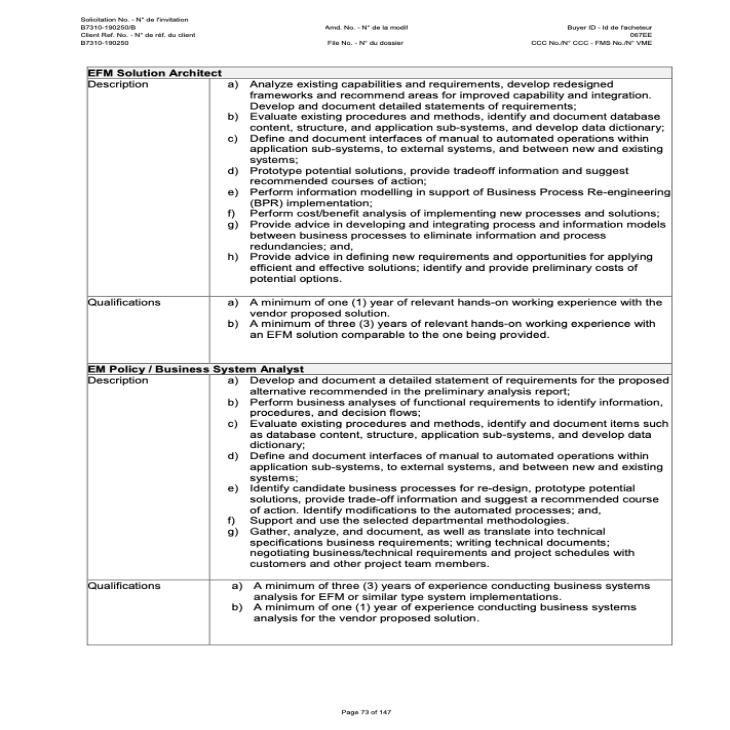cell: (210, 77, 668, 295), (211, 375, 673, 581), (210, 579, 675, 646), (211, 296, 674, 361), (88, 78, 210, 296), (88, 376, 208, 580), (85, 295, 209, 362), (88, 581, 211, 646)
head: (85, 63, 674, 79), (85, 361, 669, 376), (92, 362, 675, 375)
tabulation: (78, 56, 683, 660)
